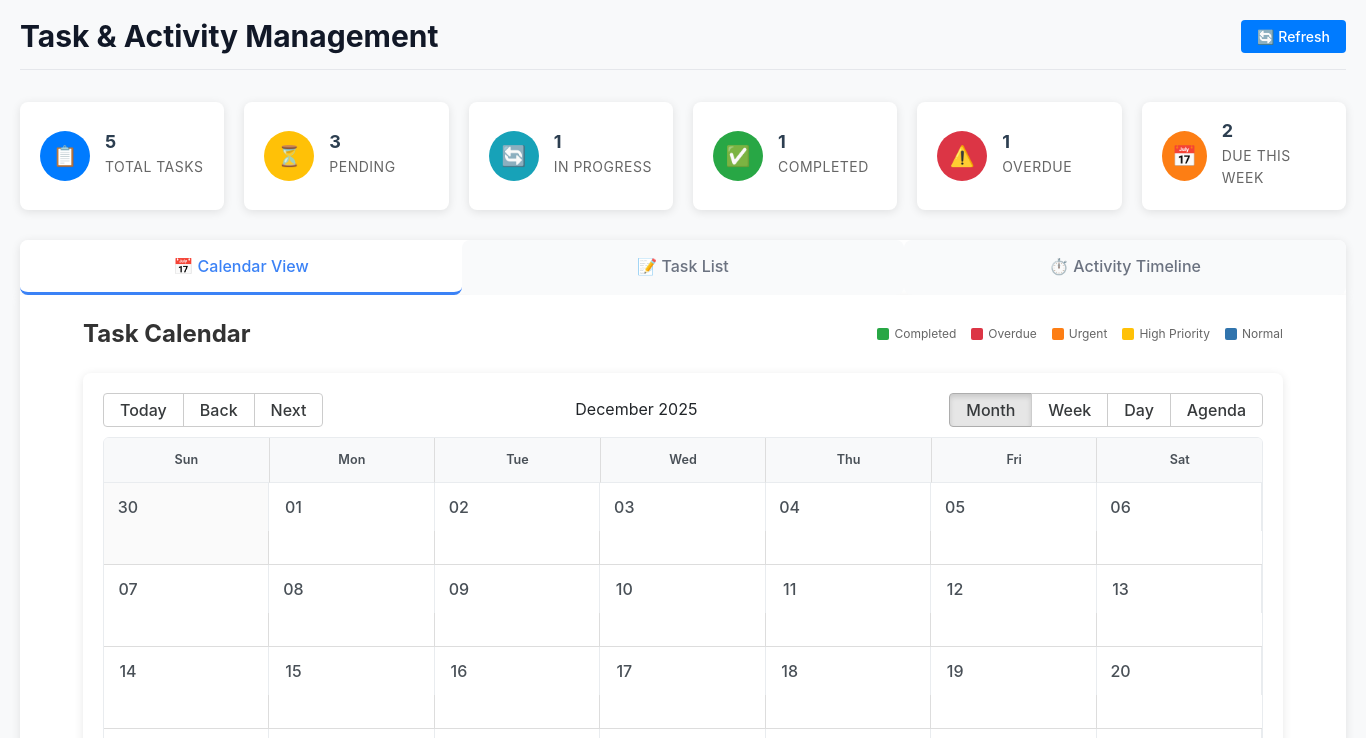
Scenario: TaskDashboard Component › Tab Navigation › switches to task list view when list tab is clicked
Check: the text "Total Tasks" is shown, box top-left (105, 156), bottom-right (204, 179)
Click the button "📝 Task List" at x=683, y=267, box top-left (462, 240), bottom-right (904, 295)
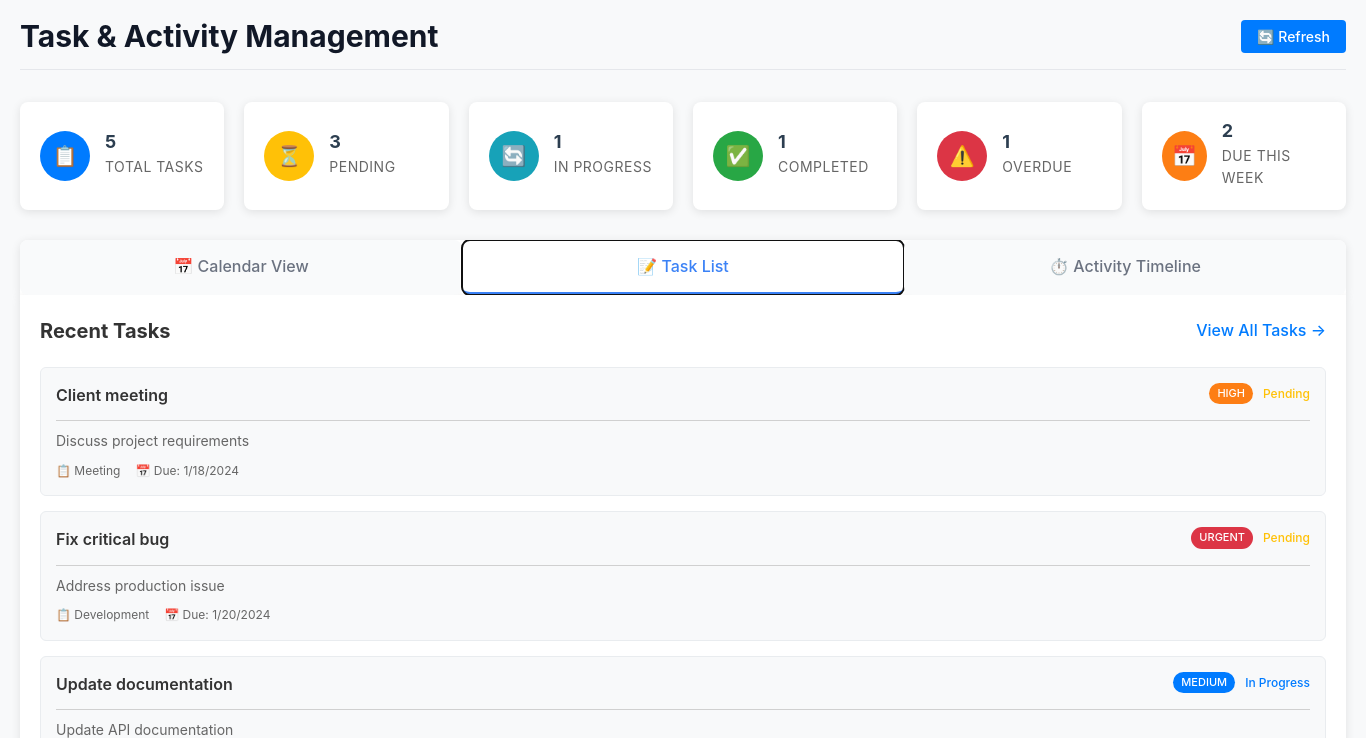
Check: the heading "Recent Tasks" is shown, box top-left (40, 315), bottom-right (170, 347)
